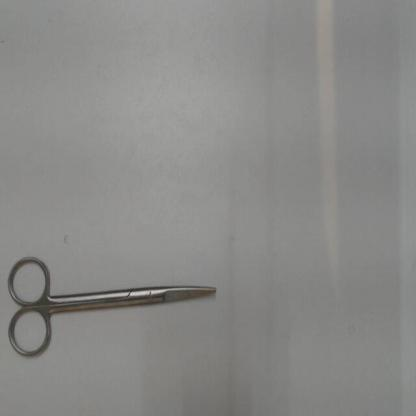Curved Mayo Scissors: (7, 254, 218, 362)
